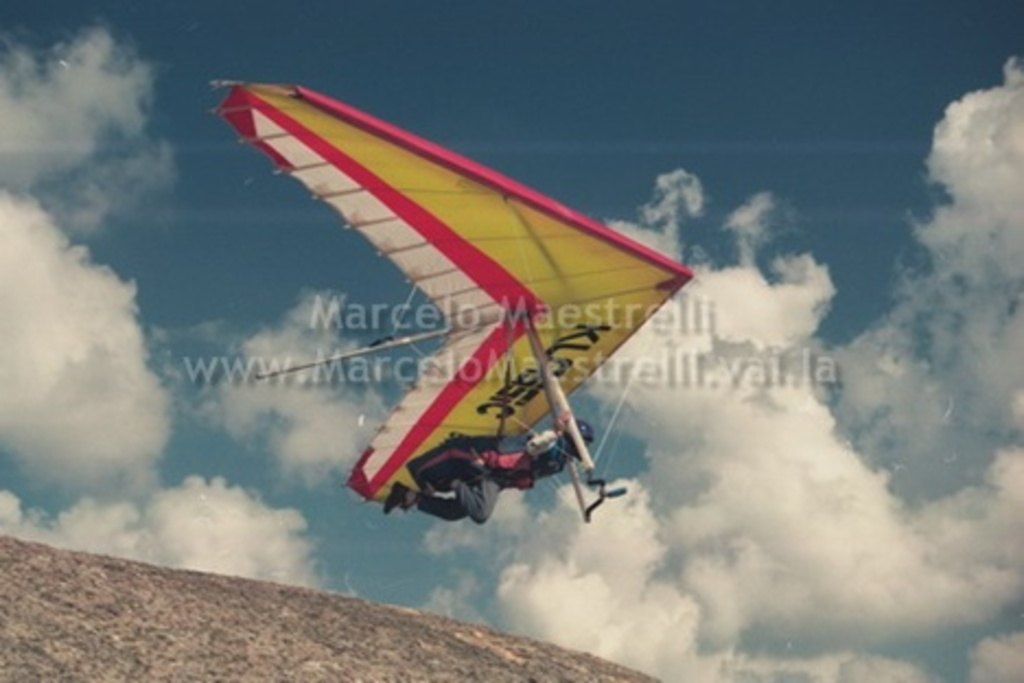person: (362, 363, 596, 525)
